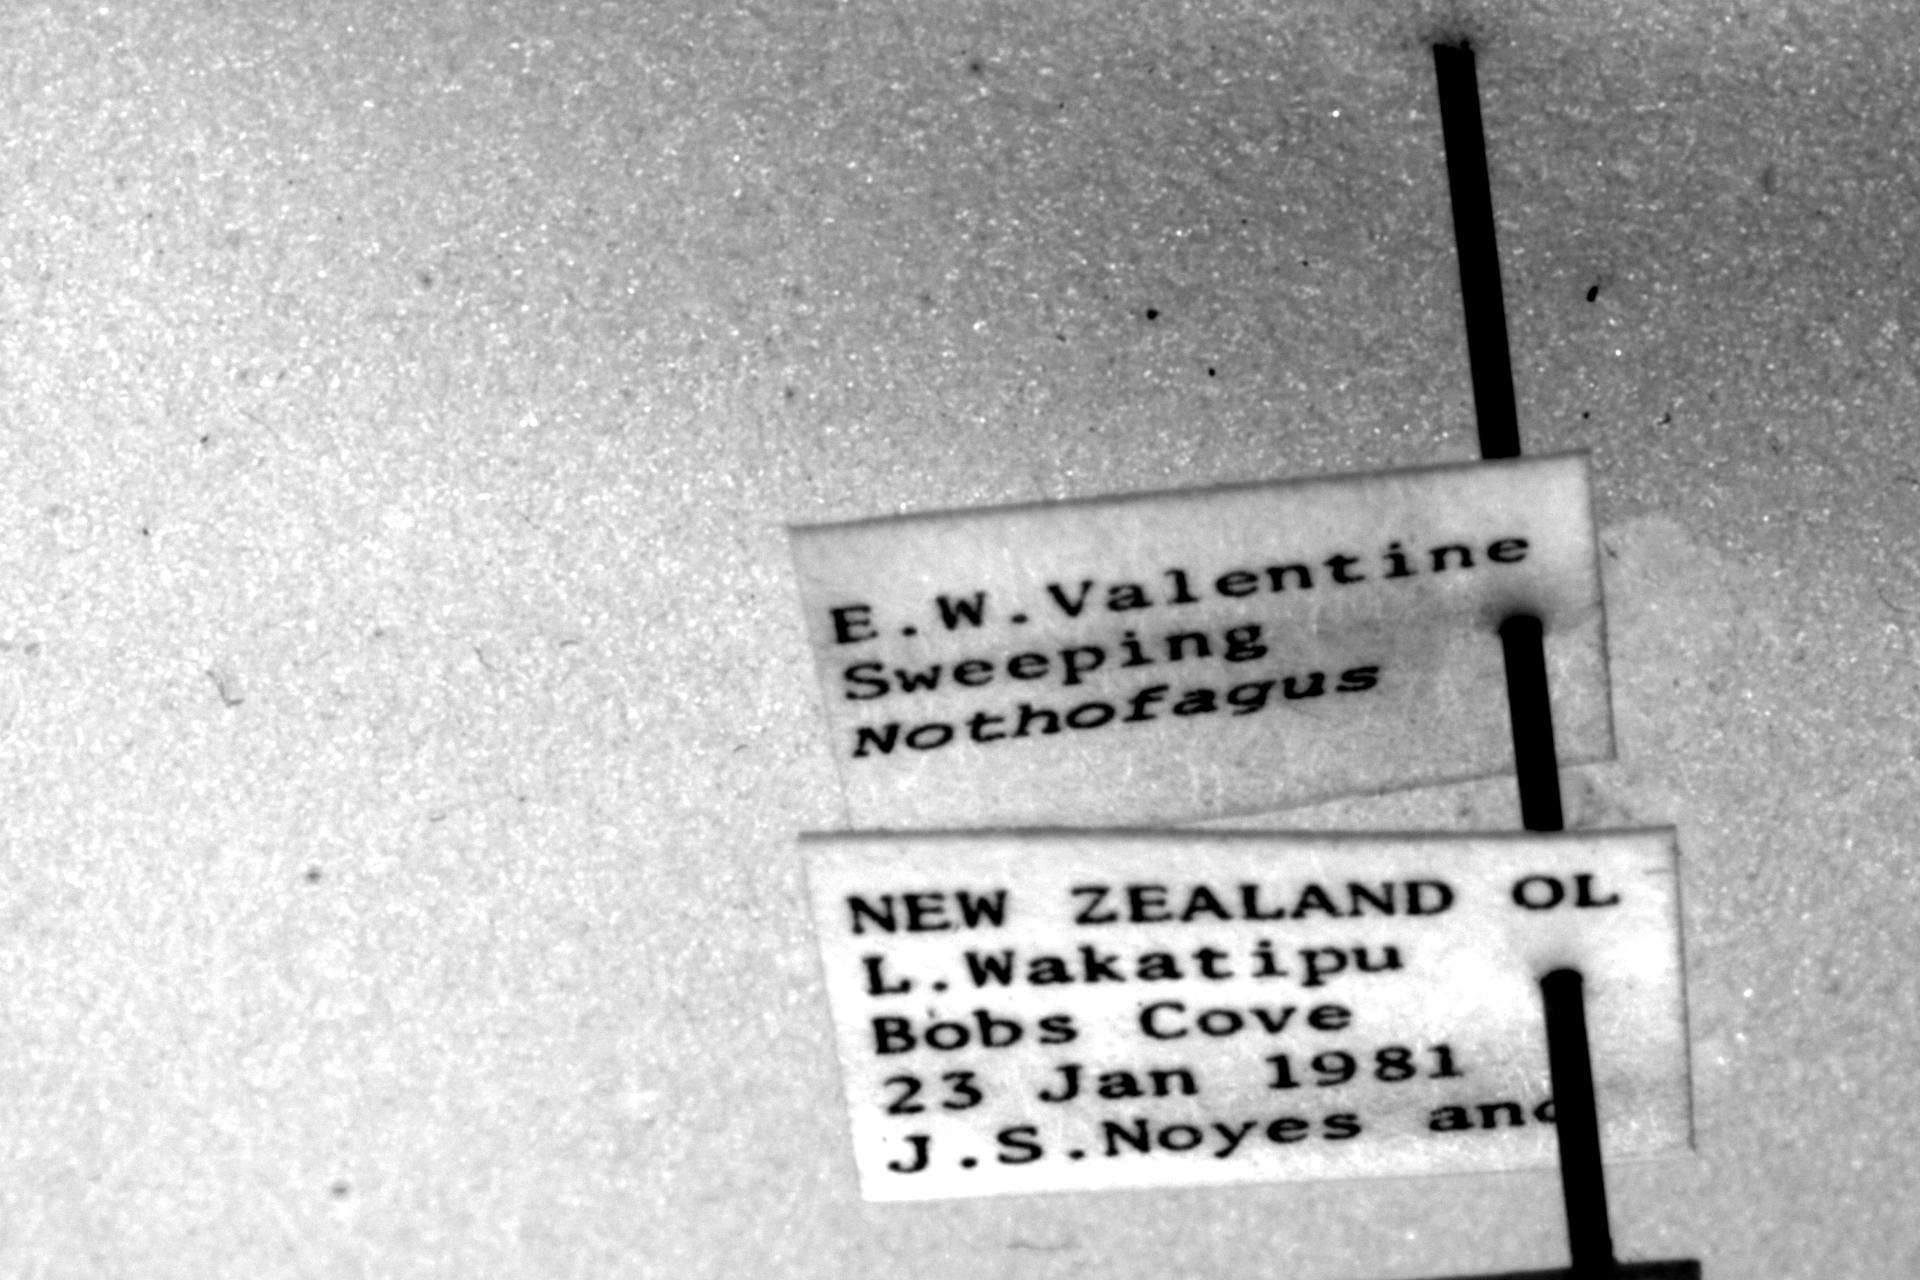typed_label: (803, 829, 1691, 1200), (791, 454, 1613, 829)
